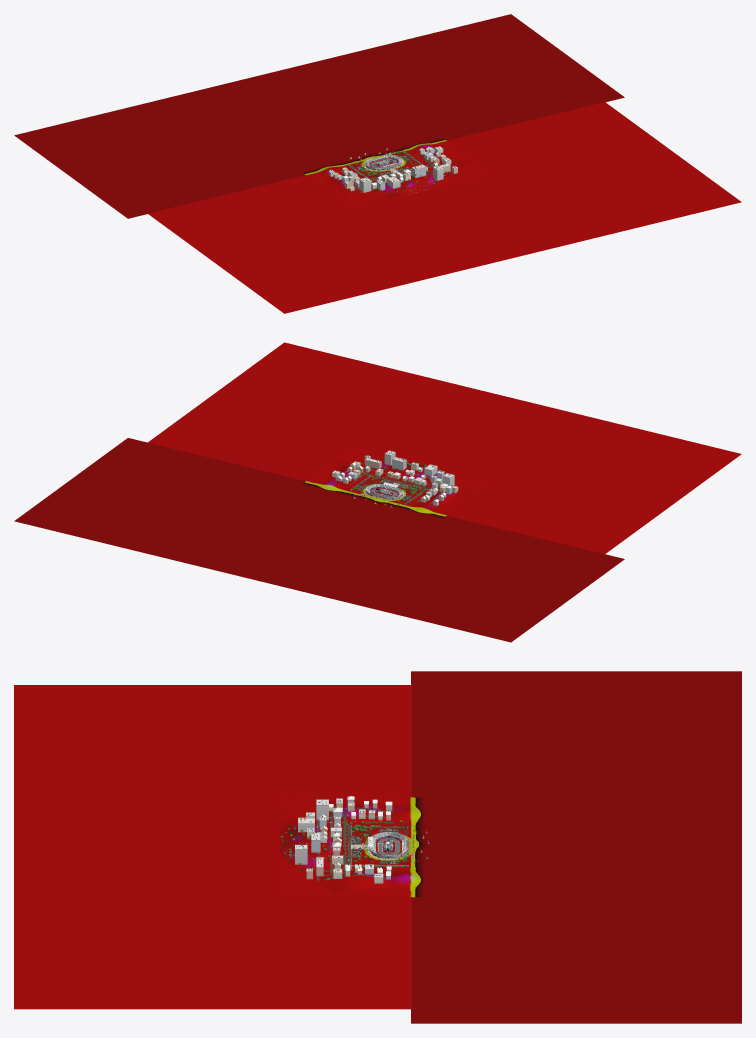
File: azure.glb
The picture shows the model from 3 angles, top to bottom: view 1: azimuth 30°, elevation 25°; view 2: azimuth 150°, elevation 25°; view 3: azimuth 270°, elevation 25°; orthographic projection. The views are drawn at different scales.
Parts seen in each view (by area): view 1: Gelaende, Meer; view 2: Gelaende, Meer, Haus_fern_k_fassade_putz, Haus_fern_k_farbe; view 3: Gelaende, Meer, Haus_fern_k_farbe, Haus_fern_k_fassade_putz, Gassen_asphalt_str.
Part boxes in pixels (box(x1,y1,x2,y2)): Gelaende: box(148, 102, 741, 313); Meer: box(14, 14, 624, 218); Gelaende: box(148, 342, 741, 553); Meer: box(14, 438, 624, 642); Haus_fern_k_fassade_putz: box(332, 463, 457, 501); Haus_fern_k_farbe: box(332, 450, 457, 501); Gelaende: box(14, 685, 420, 1009); Meer: box(411, 671, 741, 1023); Haus_fern_k_farbe: box(295, 798, 389, 877); Haus_fern_k_fassade_putz: box(307, 799, 391, 881); Gassen_asphalt_str: box(317, 807, 394, 880).
Bounding box in the file's own units: 1256 × 35.04 × 1097.
45 materials, 22 textured.
